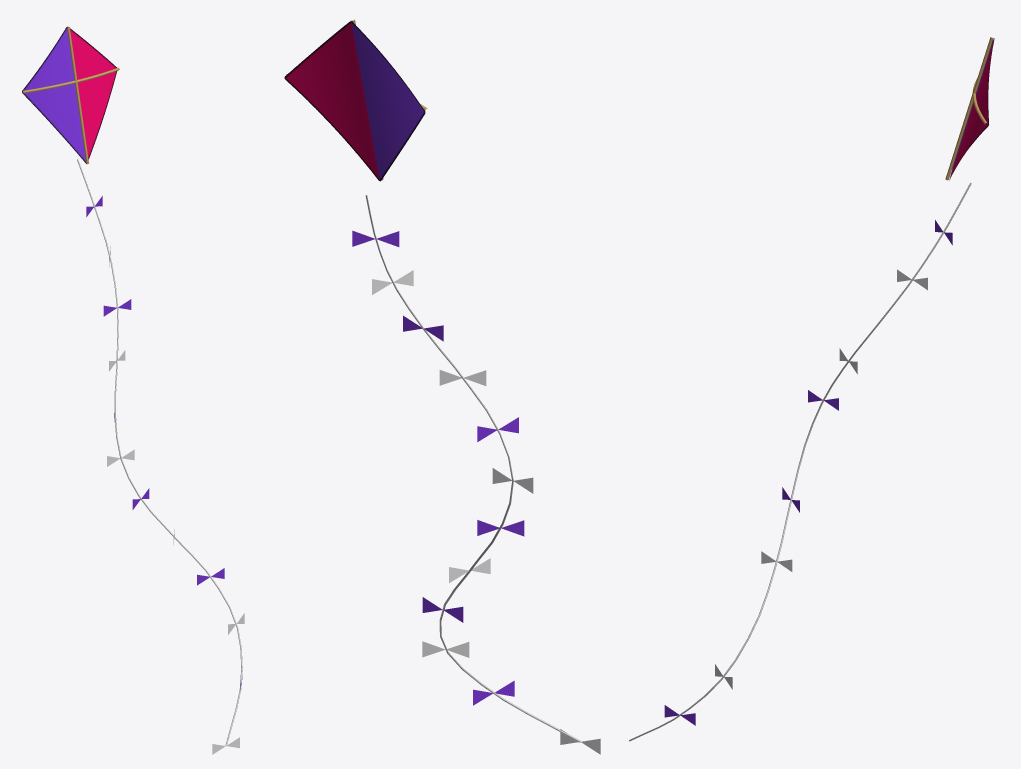
The model's file is pipa-4.glb.
The picture shows the model from 3 angles, left to right: view 1: azimuth 30°, elevation 25°; view 2: azimuth 150°, elevation 25°; view 3: azimuth 270°, elevation 25°; orthographic projection. The views are drawn at different scales.
Parts seen in each view (by area): view 1: pipa-4; view 2: pipa-4; view 3: pipa-4.
Boxes of the visible parts, bbox=[...] form: pipa-4: bbox=[22, 26, 244, 754]; pipa-4: bbox=[284, 19, 600, 754]; pipa-4: bbox=[629, 37, 994, 741].
Size of the model in its own units: 1.06 by 5.5 by 2.66.
Materials: 5 (1 with a texture image).
